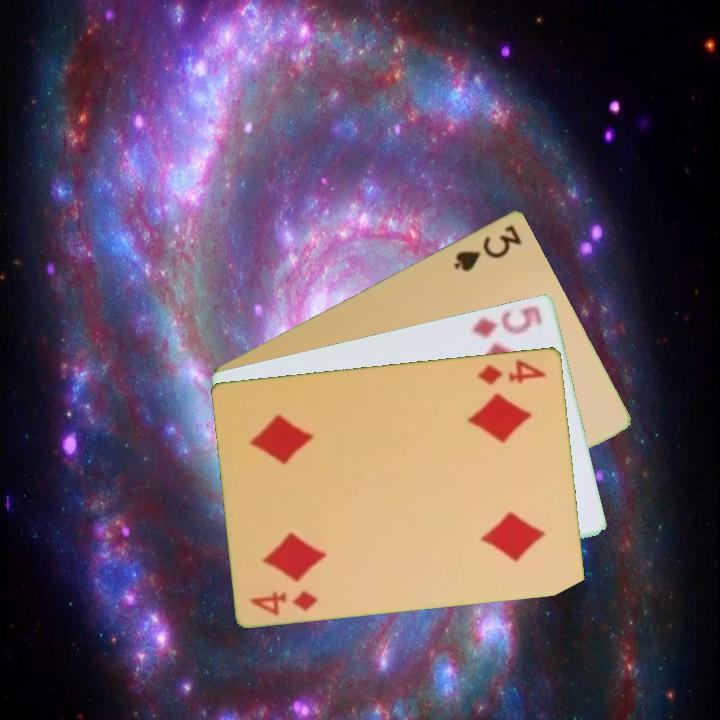3s: (450, 221, 525, 274)
4d: (473, 355, 549, 387), (246, 587, 321, 618)
5d: (469, 302, 545, 341)
